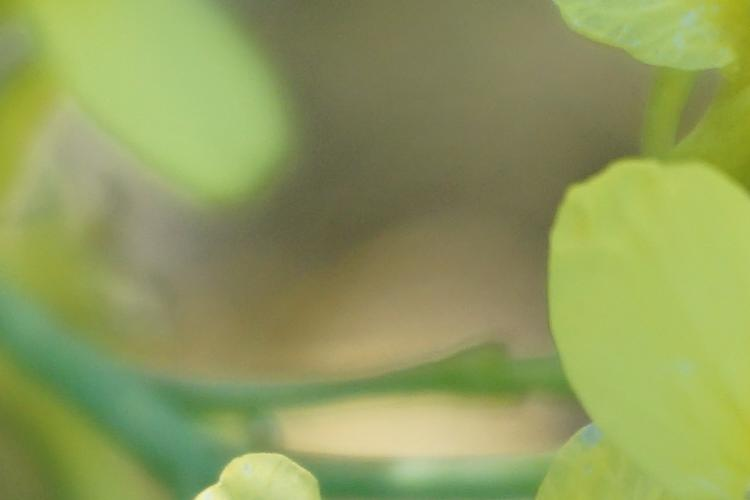yellow: (545, 151, 750, 500)
